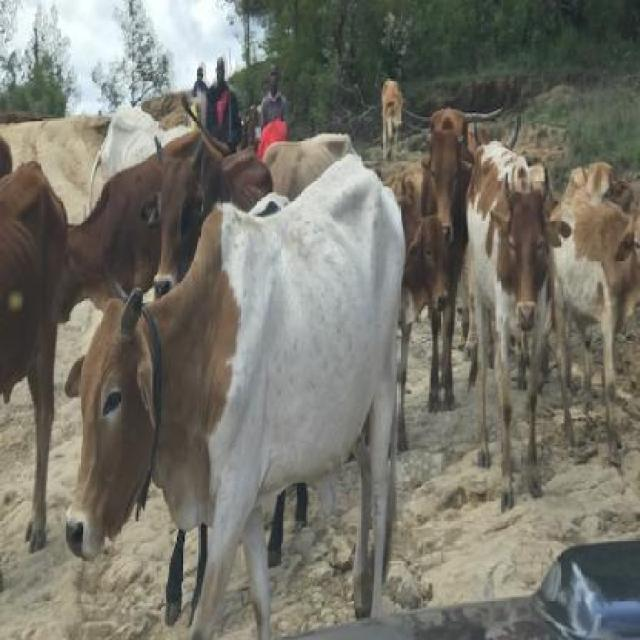Cow: (66, 152, 408, 616), (466, 135, 549, 514), (548, 180, 638, 485), (46, 142, 211, 289), (148, 134, 272, 295), (423, 116, 474, 402), (394, 180, 449, 440)
